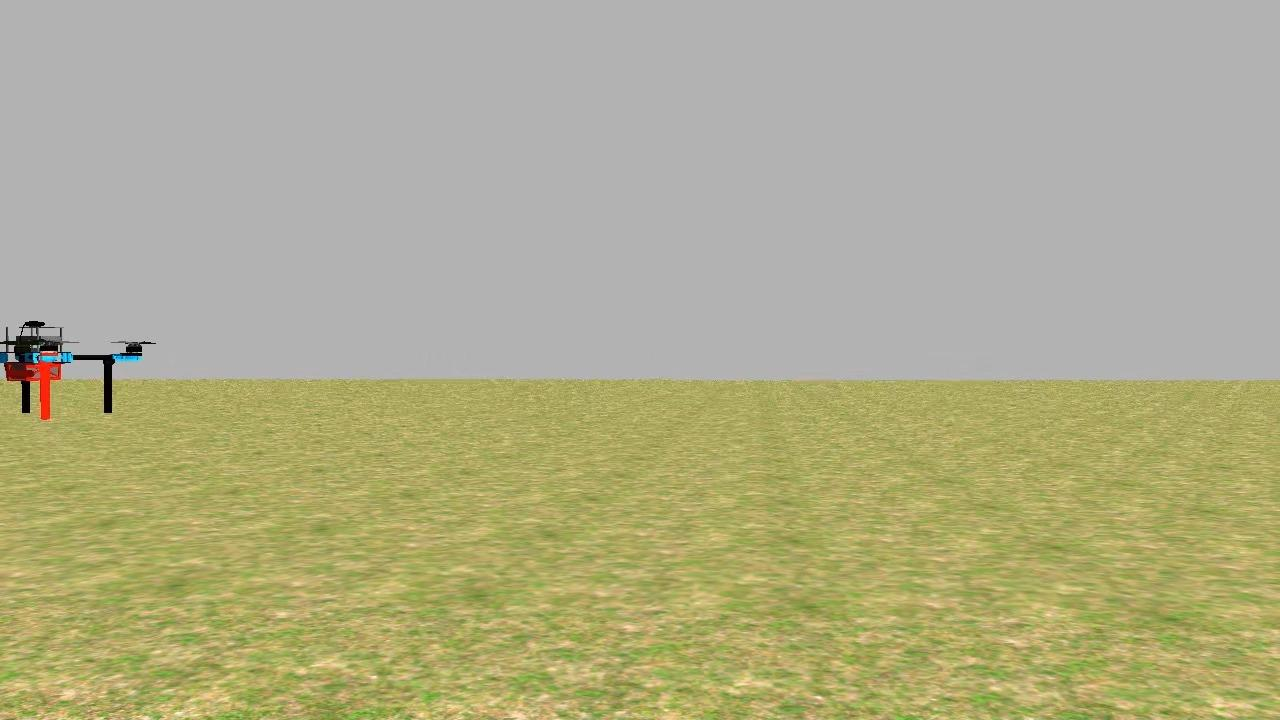UAV: (0, 312, 173, 423)
